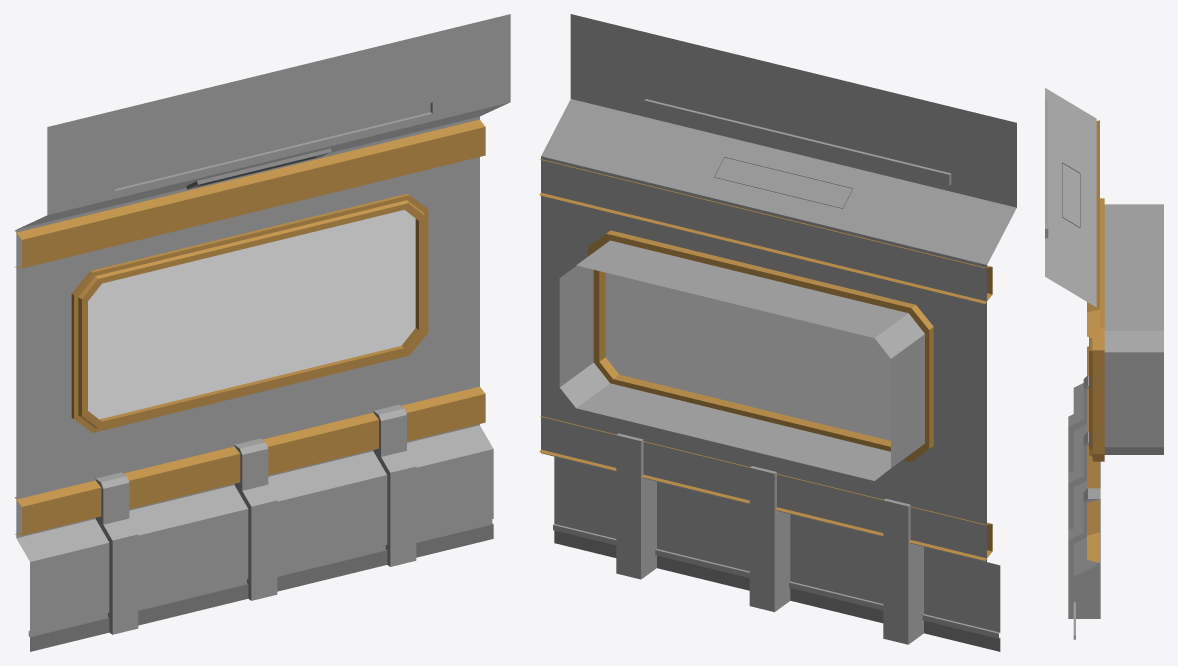
The model's file is Window_Wall_SideA_GD.glb.
The picture shows the model from 3 angles, left to right: view 1: azimuth 30°, elevation 25°; view 2: azimuth 150°, elevation 25°; view 3: azimuth 270°, elevation 25°; orthographic projection. The views are drawn at different scales.
Visible parts, largest first — view 1: Window_Wall_SideA; view 2: Window_Wall_SideA; view 3: Window_Wall_SideA.
Boxes of the visible parts, left/top/right/bottom form: Window_Wall_SideA: left=14, top=14, right=510, bottom=651; Window_Wall_SideA: left=539, top=14, right=1016, bottom=651; Window_Wall_SideA: left=1045, top=88, right=1163, bottom=639.
Size of the model in its own units: 30 by 33.23 by 7.98.
